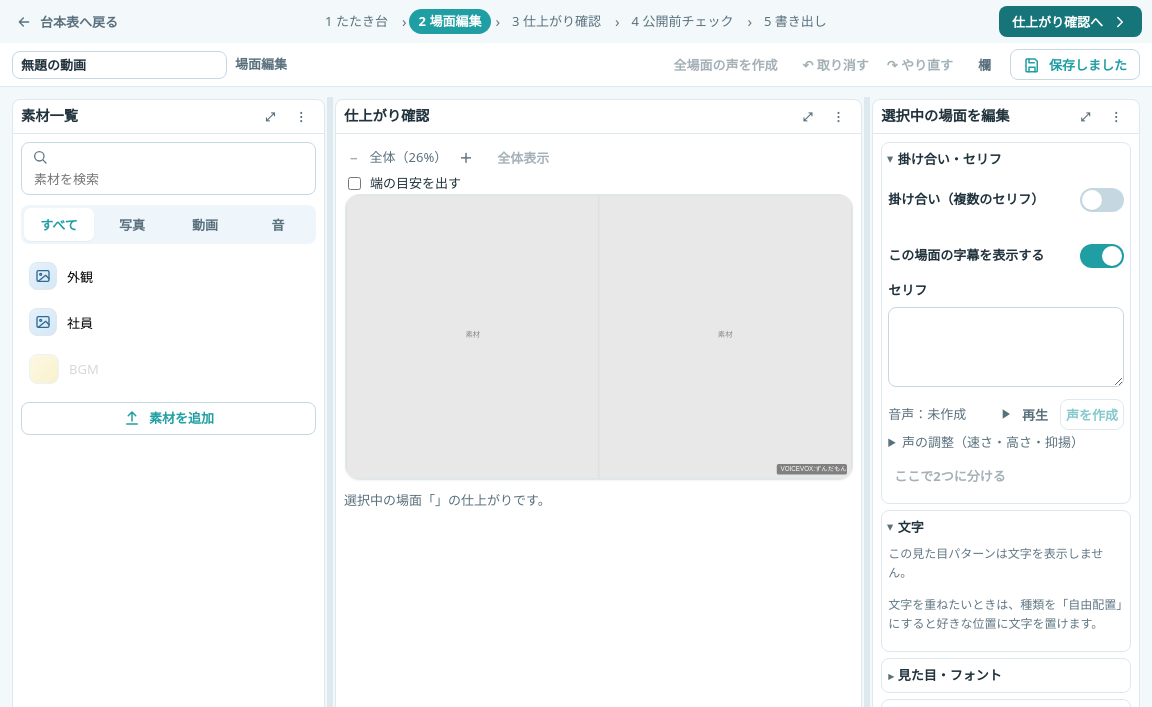
Test: 素材タイルから差し込み口へ入れられる（#1030 ①） › 確認で「やめる」を押すと何も変わらない
The image size is (1152, 707).
What coordinates should you click on to do the following:
click the button "社員"
I would click on:
 (43, 322)
Its box is [21, 300, 316, 344].
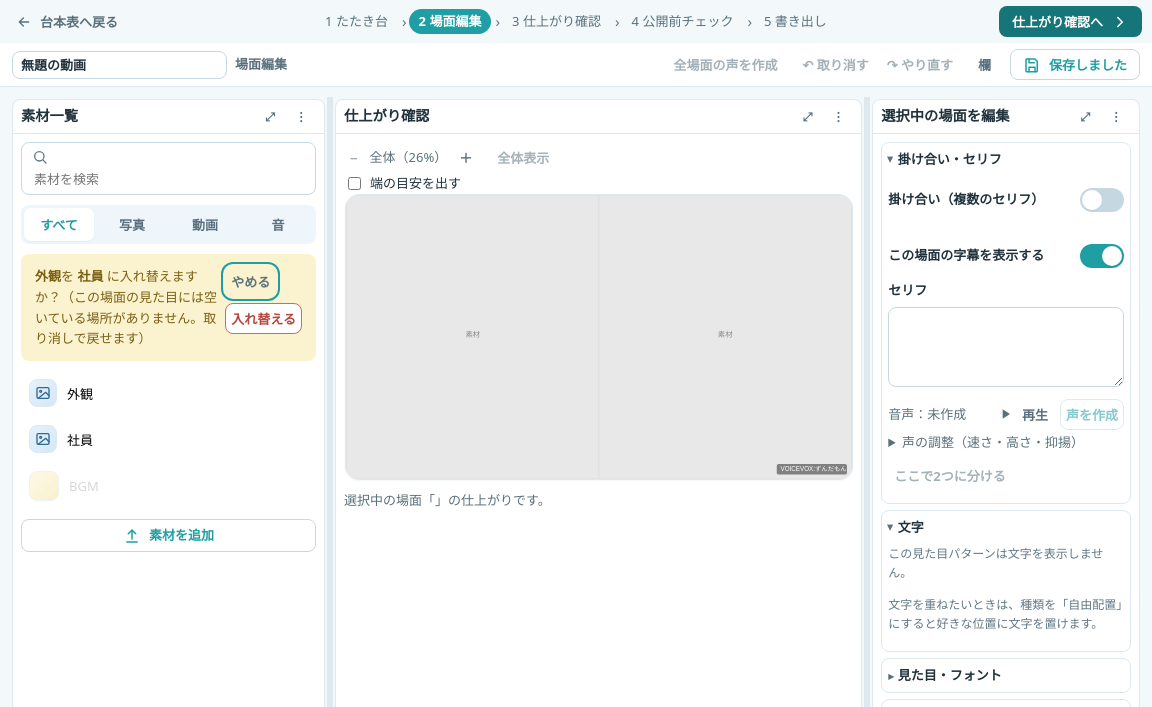
What coordinates should you click on to do the following:
click the button "やめる"
I would click on:
 (251, 282)
Its box is [225, 266, 276, 297].
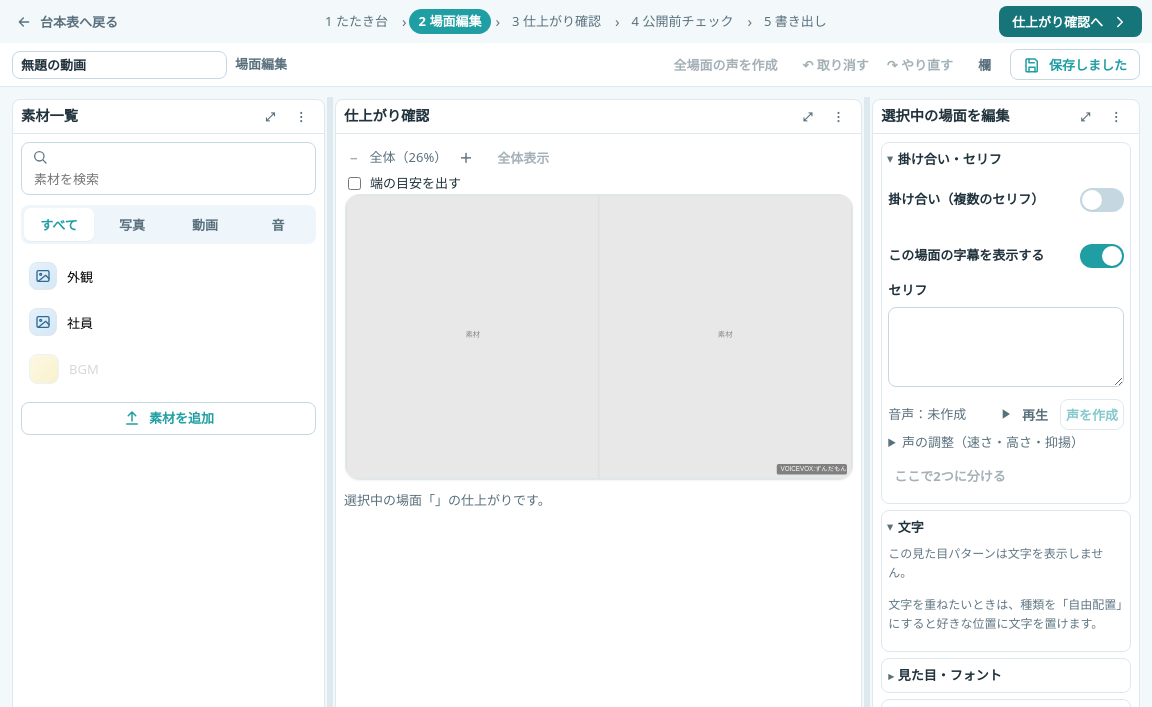
Now the text "入れ替えますか" is gone
